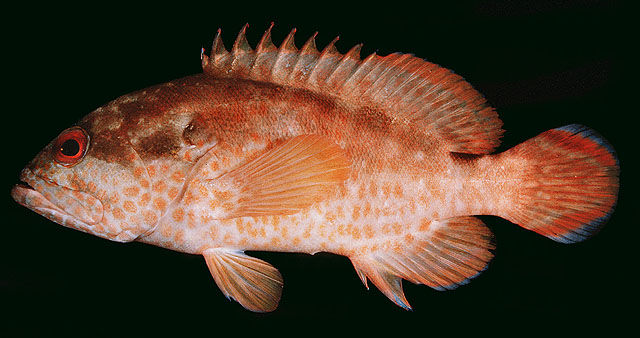fish: (13, 21, 620, 312)
